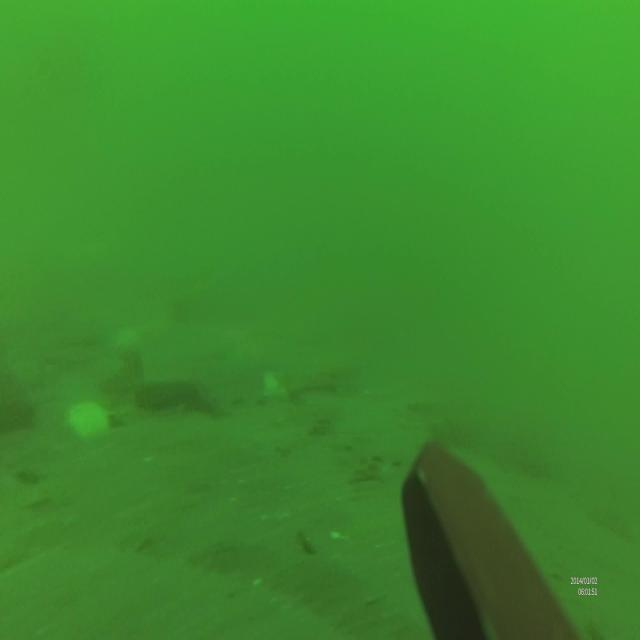scallop: (68, 401, 112, 438)
